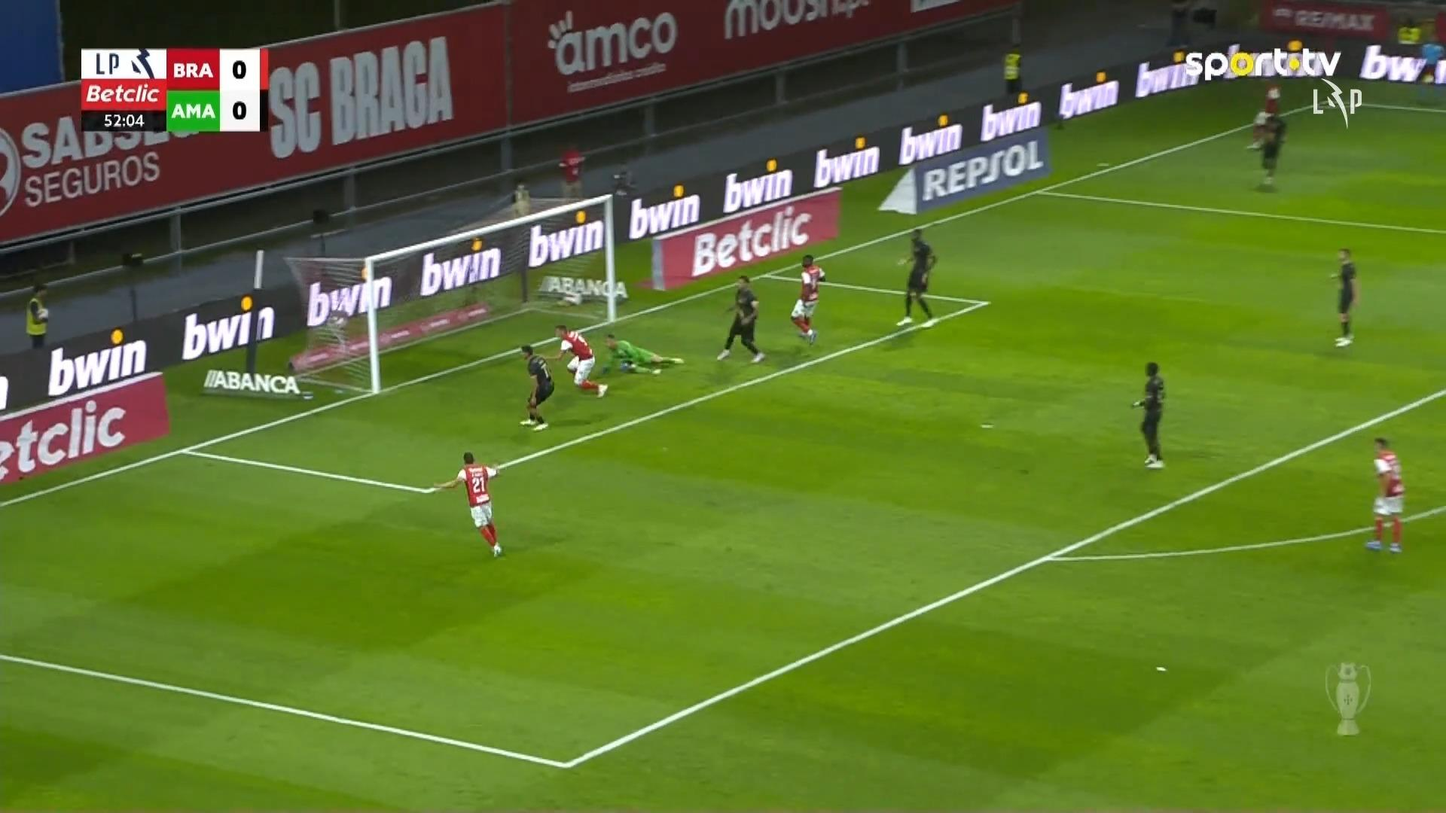goalkeeper: (602, 332, 684, 375)
player: (432, 451, 504, 558), (1364, 436, 1405, 553), (715, 273, 766, 363), (1246, 84, 1287, 188), (895, 227, 937, 326), (554, 323, 608, 397), (1130, 361, 1166, 468), (790, 254, 825, 345), (518, 343, 554, 431), (1329, 246, 1358, 346)
